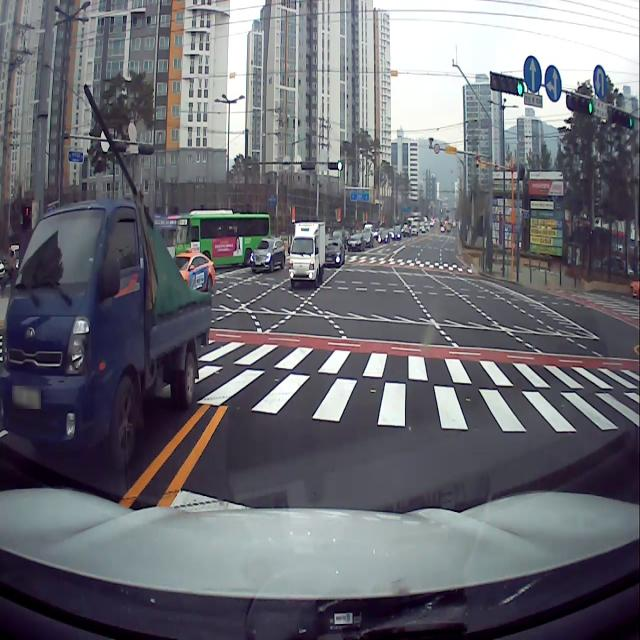Green Light: (516, 80, 524, 96), (588, 98, 593, 115), (337, 160, 343, 171), (629, 115, 633, 129)
